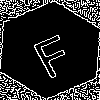F: (25, 25, 78, 80)
